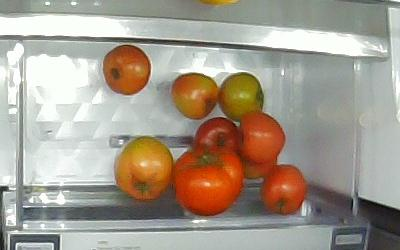tomato: (175, 145, 242, 216), (112, 135, 173, 202), (103, 44, 151, 97), (259, 165, 306, 218), (170, 73, 219, 122), (238, 112, 284, 163), (219, 70, 265, 120), (194, 117, 241, 159), (238, 154, 277, 180)
